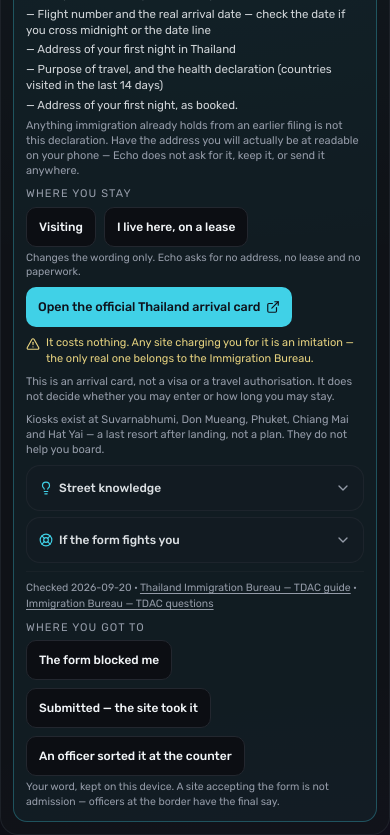
Test: the border card, live › shows both answers once the form blocked you and an officer sorted it
This screenshot has width=390, height=835.
(page scrolled)
Click the button "The form blocked me" at x=99, y=660, box [26,640,172,680]
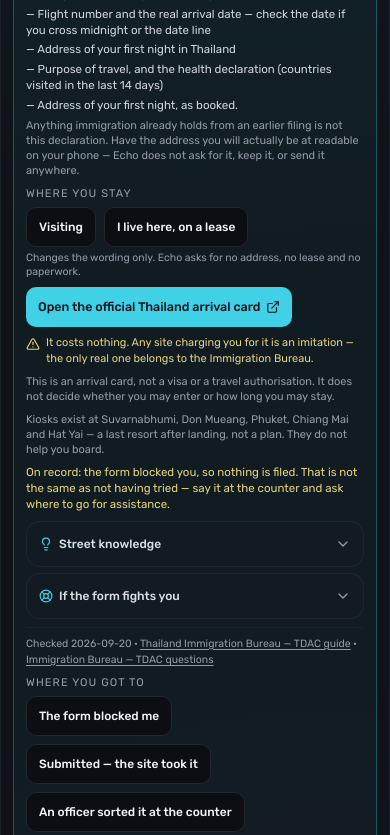
Click the button "An officer sorted it at the counter" at x=135, y=812, box [26,792,245,832]
(page scrolled)
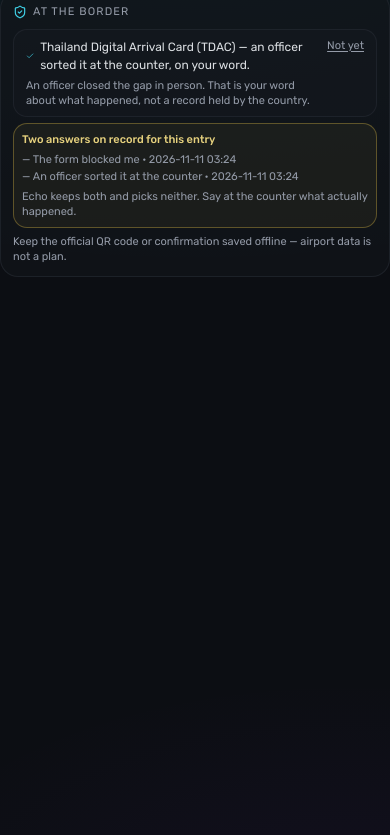
expect the text "Two answers on record for this entry" is shown: met, box [22,133,215,146]
expect the text "picks neither" is shown: met, box [22,190,367,218]
